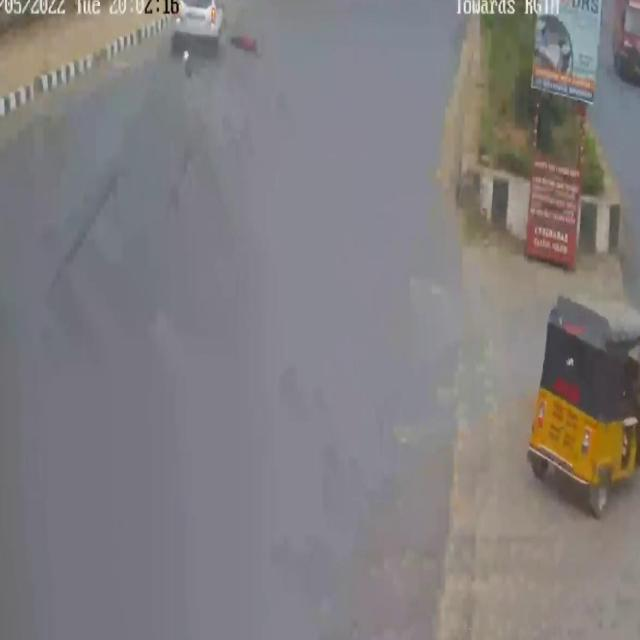accident: (162, 0, 264, 84)
